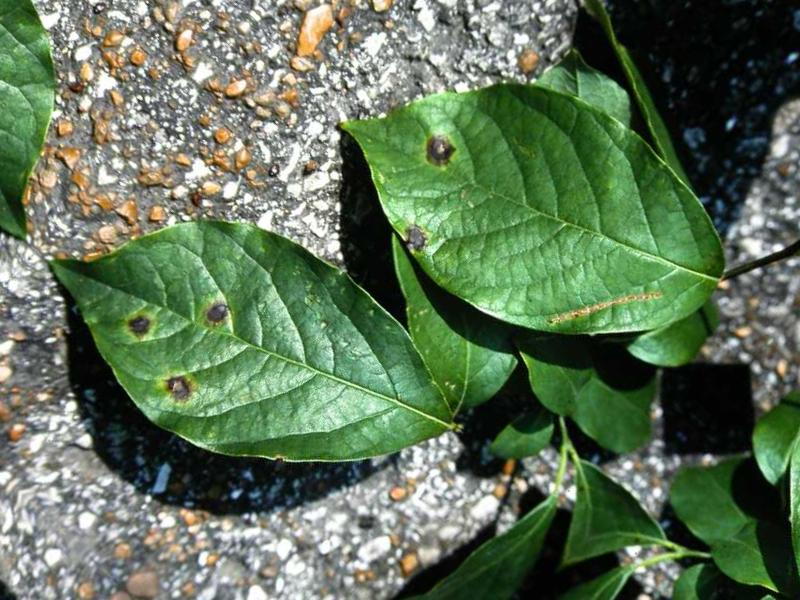Tomato leaf bacterial spot: (0, 104, 489, 600), (286, 0, 762, 441)
